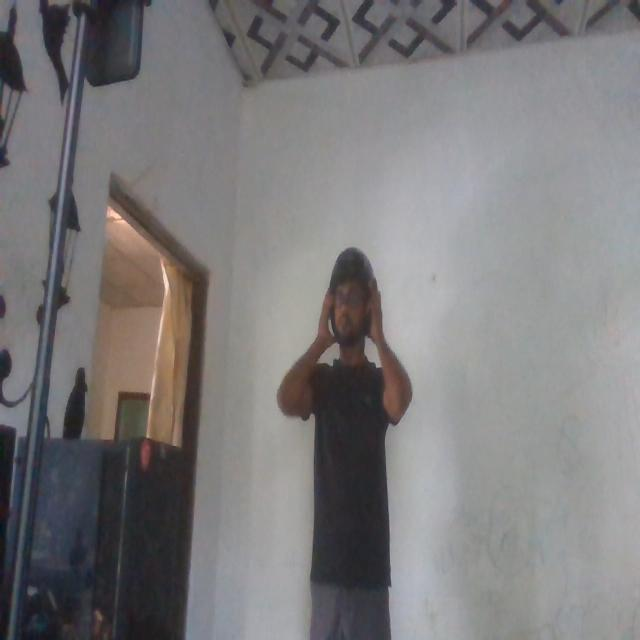Helmet_Wearer: (314, 235, 382, 354)
Person: (275, 231, 416, 640)
